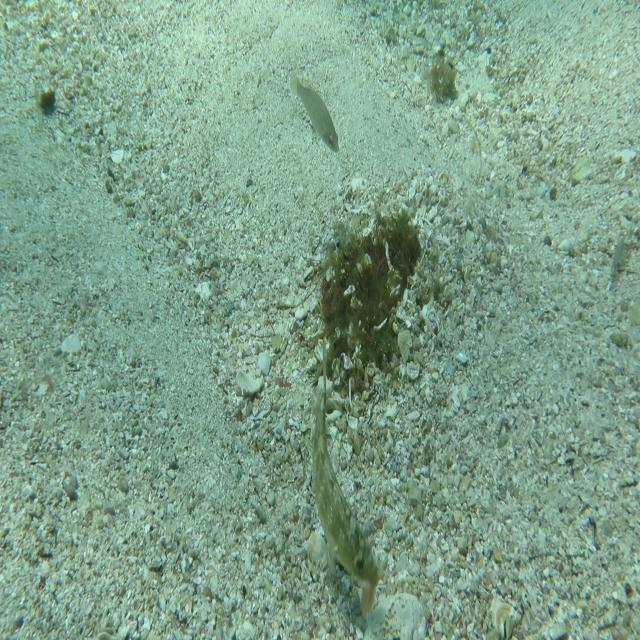AM: (308, 395, 380, 589)
core_nest: (367, 234, 415, 271)
female: (289, 70, 340, 154)
nest: (311, 205, 436, 400)
nest_material: (362, 581, 376, 617)
